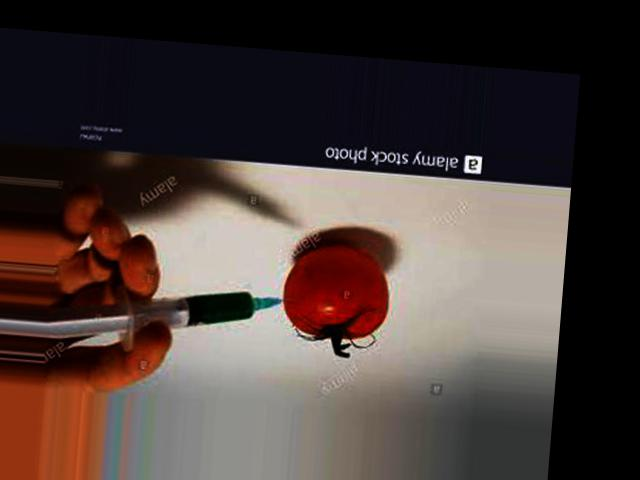tomato: (280, 241, 391, 341)
